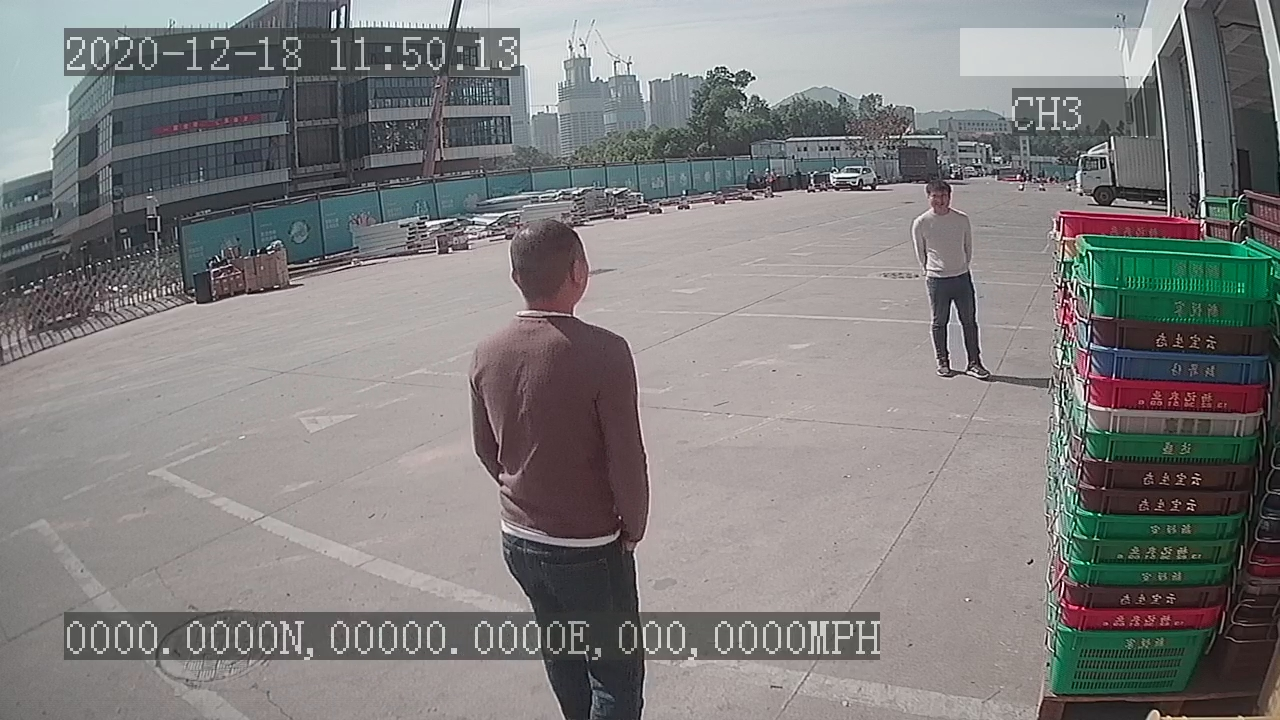person: (908, 179, 995, 386)
